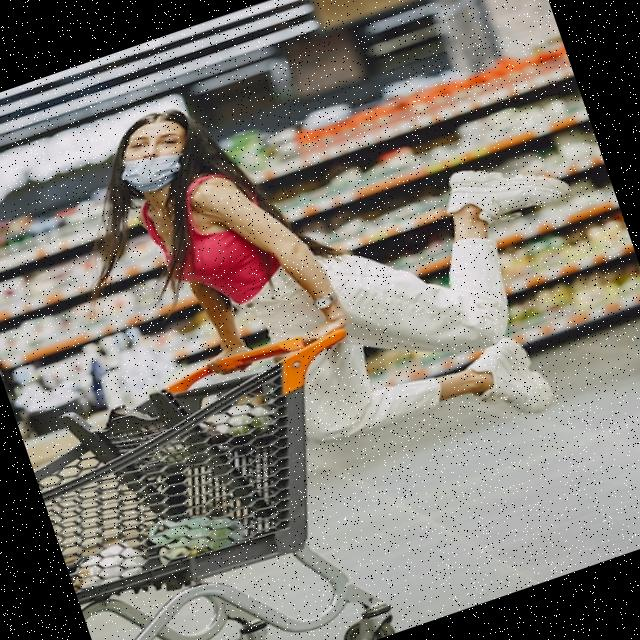Person: (38, 0, 637, 539)
